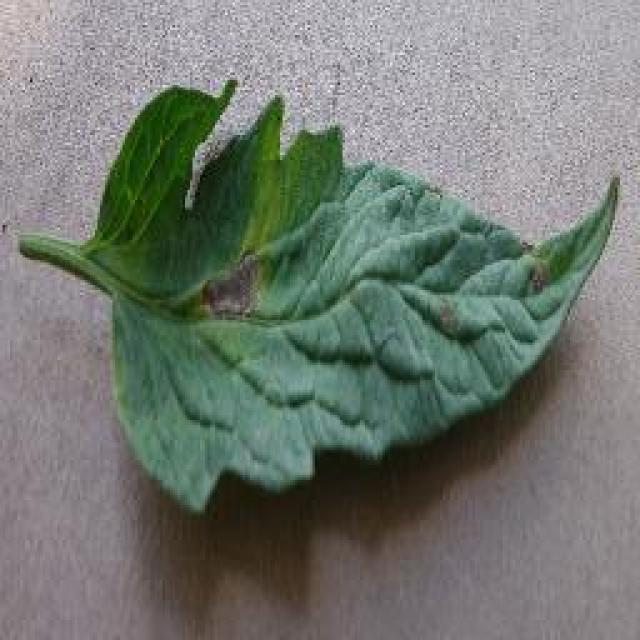Tomato Early blight leaf: (38, 126, 612, 506)
